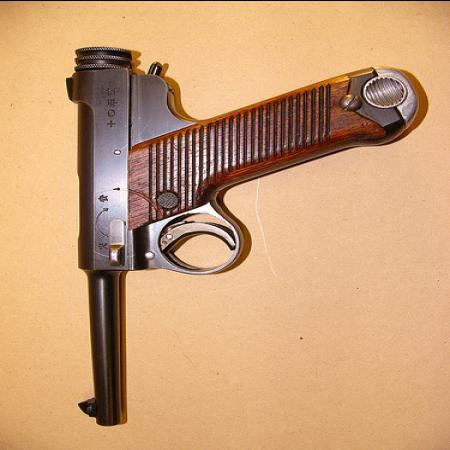Pistol: (60, 47, 425, 427)
